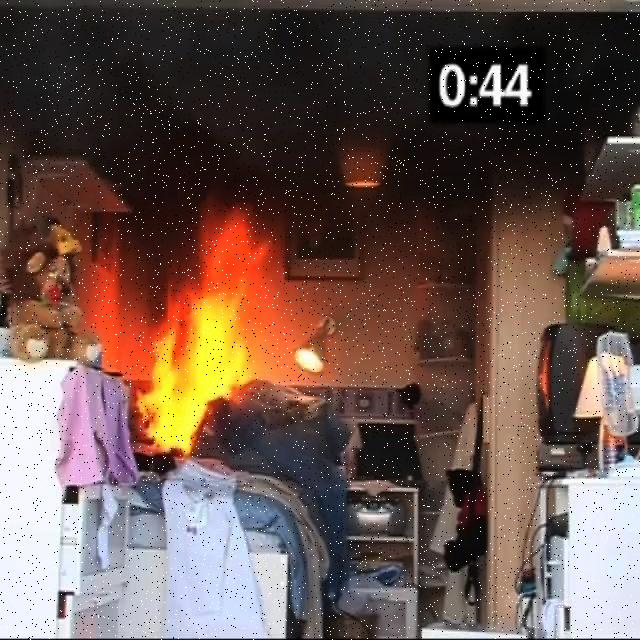fire: (132, 207, 270, 465)
smoke: (42, 24, 378, 170)
